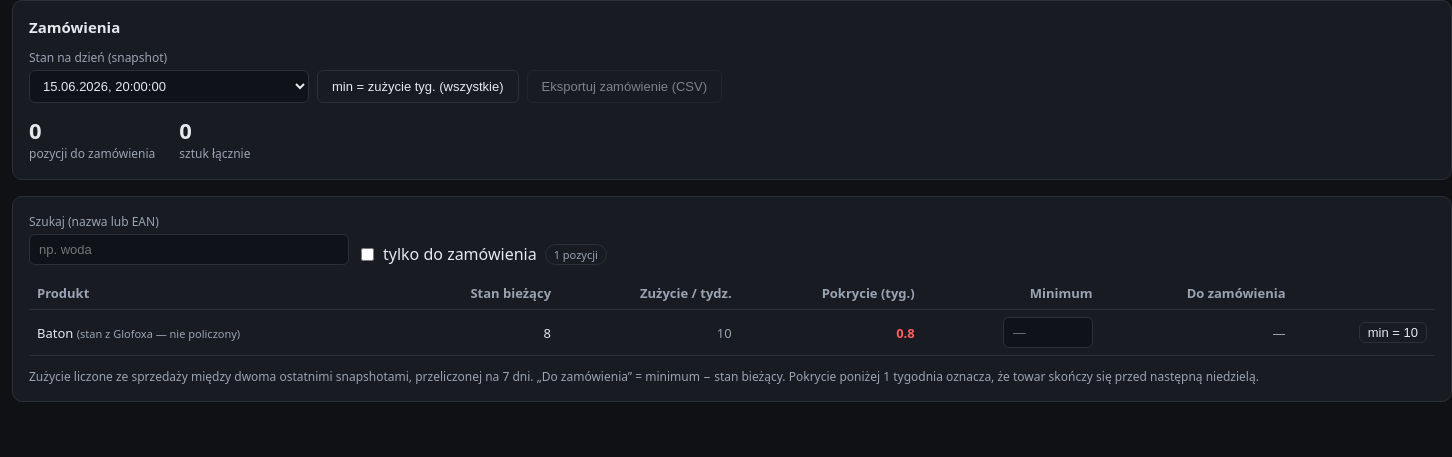
Test: OrdersView › zapisuje ręcznie wpisane minimum
Type "30" into the number field named "Minimum dla Baton" at (1048,332), box [1003,317,1093,348]
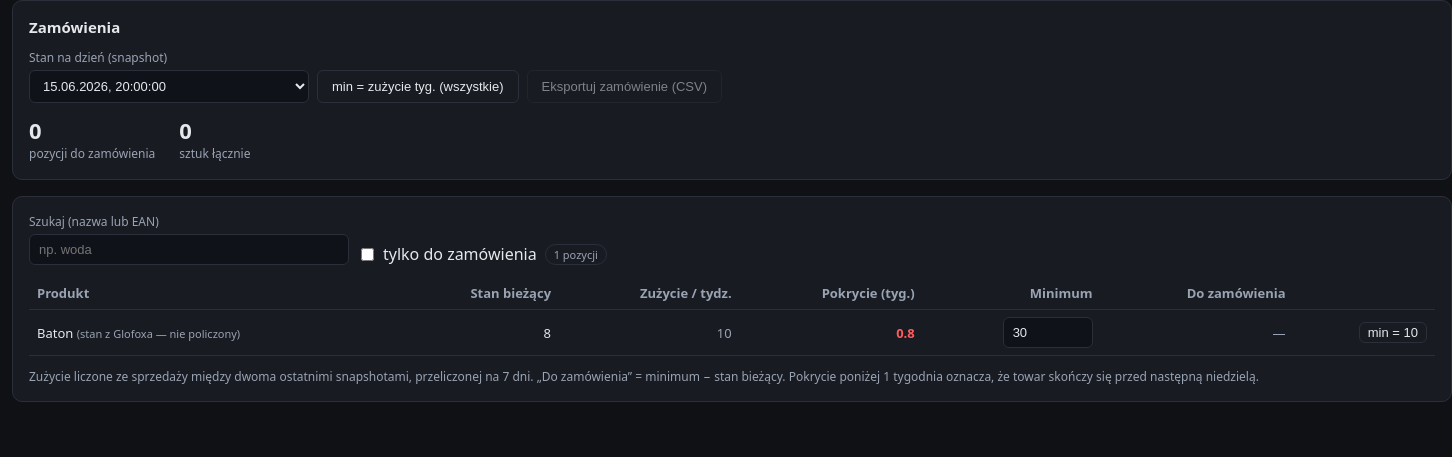
Leave the number field named "Minimum dla Baton", box [1003,317,1093,348]
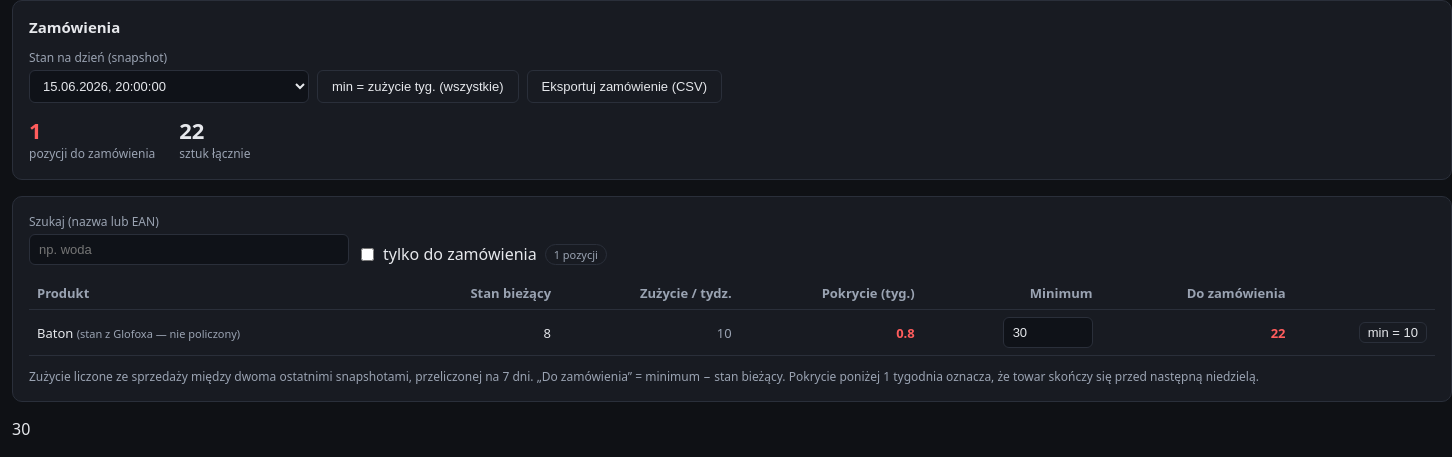
Check: the text with test id "min" reads "30", box [12,418,30,440]
